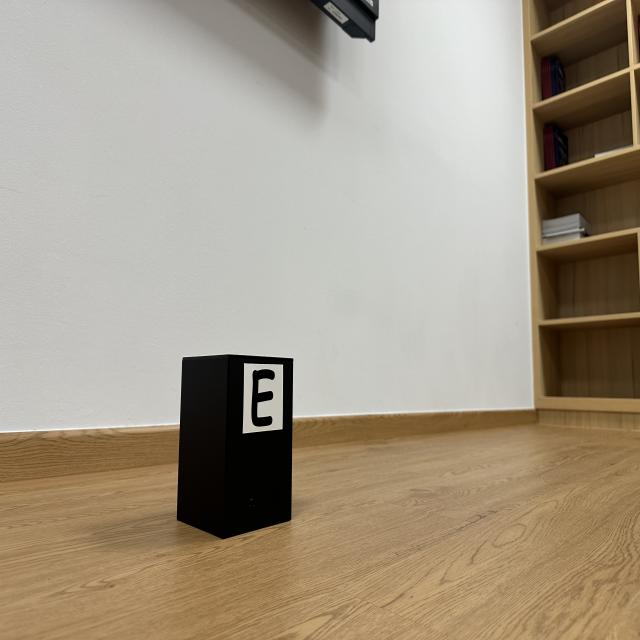E: (251, 370, 275, 427)
